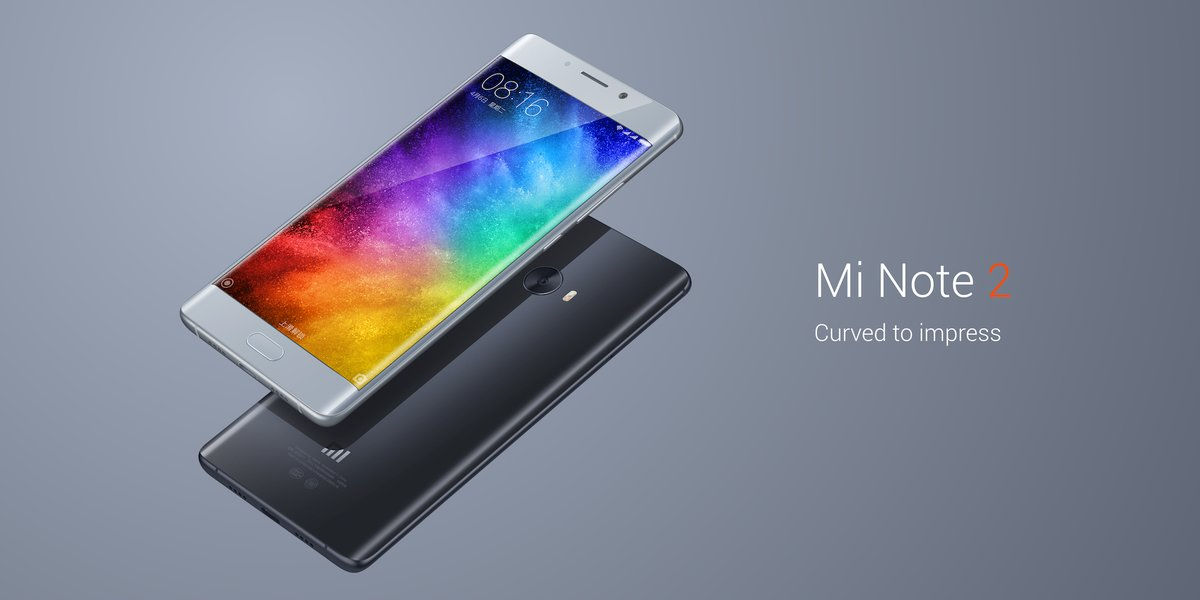smartphone: (179, 33, 685, 428), (197, 215, 693, 572)
